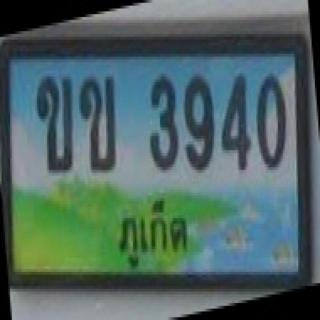A02: (77, 70, 124, 180), (32, 70, 75, 176)
N00: (251, 70, 289, 176)
N03: (140, 71, 182, 176)
N04: (220, 69, 254, 177)
N09: (179, 70, 217, 172)
P48: (108, 197, 191, 271)
